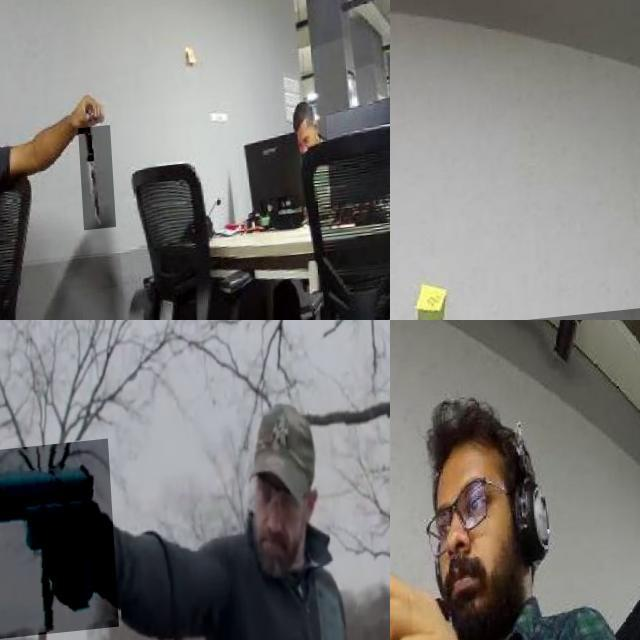-: (390, 465, 450, 640), (74, 132, 110, 237)
gun-knife-thesis - v11 Yolov5 augmented: (0, 442, 114, 640)
